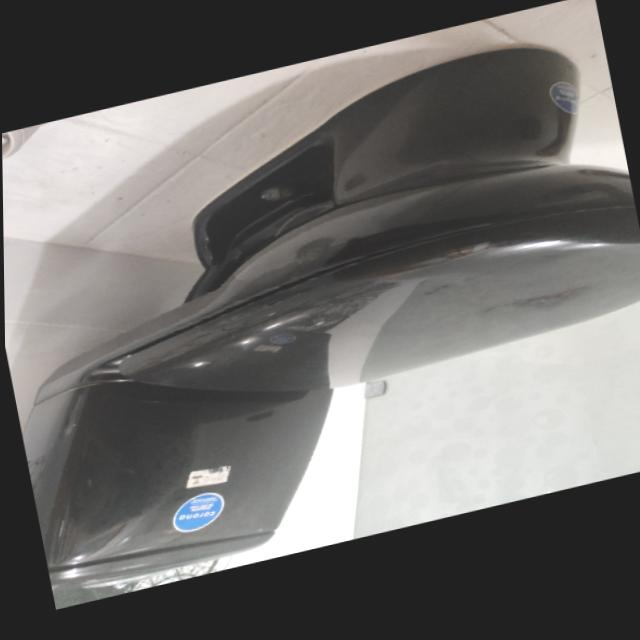toilet: (0, 12, 640, 607)
